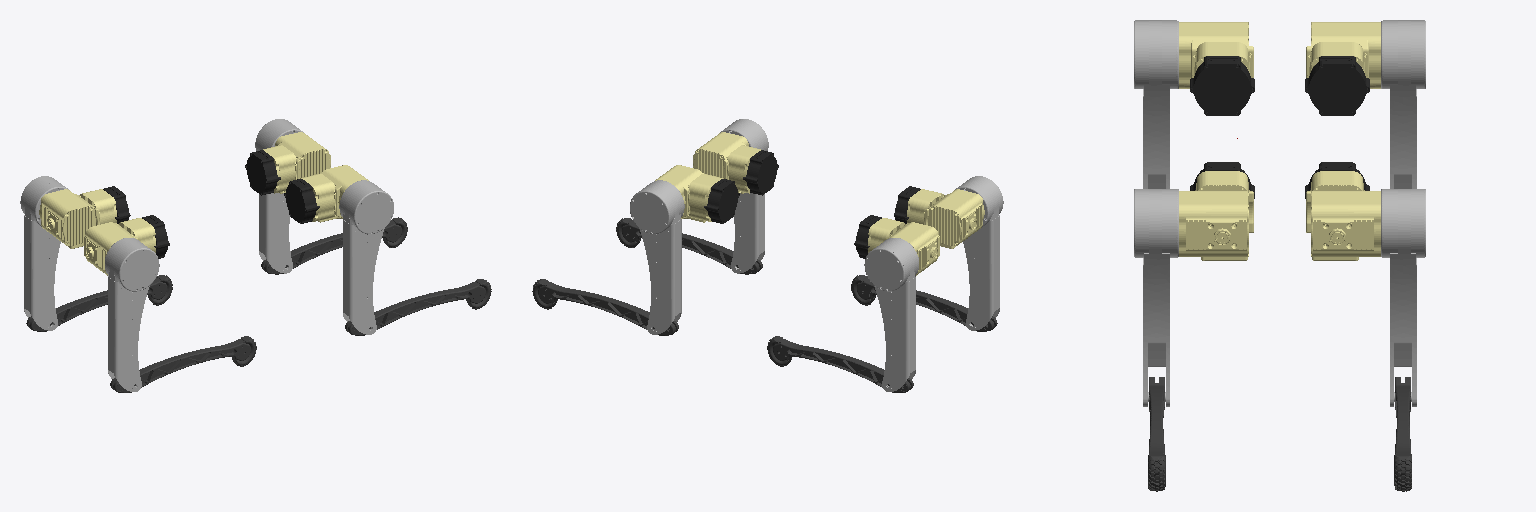
--- Render facts (derived) ---
3 views of the same robot in one strip: view 1: azimuth 30°, elevation 25°; view 2: azimuth 150°, elevation 25°; view 3: azimuth 270°, elevation 25° (orthographic).
Robot: rbq10v5 — 23 links, 22 joints (12 revolute, 10 fixed); root link base; default pose: joints at zero except 4 at the middle of their limits (RR_calf_joint = -1.61, RL_calf_joint = -1.61, FR_calf_joint = -1.61, FL_calf_joint = -1.61).
Links seen in each view (by area): view 1: RR_thigh, FR_thigh, RL_thigh, RL_hip, FL_thigh, FL_hip, RR_hip, FR_calf, RR_calf, FR_hip, RL_calf, FL_calf (+2 smaller); view 2: FL_thigh, RL_thigh, RR_thigh, RR_hip, FR_thigh, FR_hip, RL_hip, FL_calf, RL_calf, FL_hip, RR_calf, FR_calf (+2 smaller); view 3: FR_thigh, FL_thigh, FR_hip, FL_hip, RR_thigh, RL_thigh, RR_hip, RL_hip, RR, RL, FR_calf, FL_calf (+2 smaller).
Boxes of the visible links, x1=… form: RR_thigh: x1=105, y1=238, x2=159, y2=391; FR_thigh: x1=339, y1=180, x2=393, y2=334; RL_thigh: x1=20, y1=176, x2=68, y2=330; RL_hip: x1=39, y1=189, x2=116, y2=248; FL_thigh: x1=255, y1=119, x2=303, y2=273; FL_hip: x1=263, y1=132, x2=330, y2=193; RR_hip: x1=84, y1=218, x2=155, y2=275; FR_calf: x1=345, y1=281, x2=485, y2=335; RR_calf: x1=110, y1=339, x2=250, y2=392; FR_hip: x1=300, y1=165, x2=368, y2=222; RL_calf: x1=26, y1=277, x2=166, y2=331; FL_calf: x1=261, y1=220, x2=401, y2=274; FL_thigh: x1=630, y1=180, x2=684, y2=334; RL_thigh: x1=864, y1=238, x2=918, y2=391; RR_thigh: x1=955, y1=176, x2=1003, y2=330; RR_hip: x1=907, y1=189, x2=984, y2=248; FR_thigh: x1=720, y1=119, x2=768, y2=273; FR_hip: x1=693, y1=132, x2=760, y2=193; RL_hip: x1=868, y1=218, x2=939, y2=275; FL_calf: x1=538, y1=281, x2=678, y2=335; RL_calf: x1=773, y1=339, x2=913, y2=392; FL_hip: x1=655, y1=165, x2=723, y2=222; RR_calf: x1=857, y1=277, x2=997, y2=331; FR_calf: x1=622, y1=220, x2=762, y2=274; FR_thigh: x1=1134, y1=189, x2=1178, y2=406; FL_thigh: x1=1381, y1=189, x2=1425, y2=406; FR_hip: x1=1179, y1=171, x2=1253, y2=260; FL_hip: x1=1306, y1=171, x2=1380, y2=260; RR_thigh: x1=1134, y1=20, x2=1178, y2=188; RL_thigh: x1=1381, y1=20, x2=1425, y2=188; RR_hip: x1=1179, y1=22, x2=1253, y2=88; RL_hip: x1=1306, y1=22, x2=1380, y2=88; RR: x1=1190, y1=56, x2=1254, y2=115; RL: x1=1305, y1=56, x2=1369, y2=115; FR_calf: x1=1149, y1=377, x2=1164, y2=453; FL_calf: x1=1395, y1=377, x2=1410, y2=453.
Bounding box of the posed robot: 1.01 × 0.4587 × 0.3785 m (x, y, z).
Meshes: 8 distinct files referenced, 20 mesh visuals loaded (7 binary STL); not drawn: 1 (reference not matched to a file when rendering).

URDF robot description (rbq10v5):
<?xml version="1.0" encoding="utf-8"?>

<robot name="rbq10v5">
    <material name="black">
        <color rgba="0.0 0.0 0.0 1.0" />
    </material>
    <material name="blue">
        <color rgba="0.0 0.0 0.8 1.0" />
    </material>
    <material name="green">
        <color rgba="0.0 0.8 0.0 1.0" />
    </material>
    <material name="grey">
        <color rgba="0.2 0.2 0.2 1.0" />
    </material>
    <material name="silver">
        <color rgba="0.913725490196 0.913725490196 0.847058823529 1.0" />
    </material>
    <material name="orange">
        <color rgba="1.0 0.423529411765 0.0392156862745 1.0" />
    </material>
    <material name="brown">
        <color rgba="0.870588235294 0.811764705882 0.764705882353 1.0" />
    </material>
    <material name="red">
        <color rgba="0.8 0.0 0.0 1.0" />
    </material>
    <material name="white">
        <color rgba="1.0 1.0 1.0 1.0" />
    </material>


    <link name="base">
        <visual>
            <origin rpy="0 0 0" xyz="0 0 0" />
            <geometry>
                <box size="0.001 0.001 0.001" />
            </geometry>
        </visual>
    </link>

    <joint name="floating_base" type="fixed">
        <origin rpy="0 0 0" xyz="0 0 0" />
        <parent link="base" />
        <child link="trunk" />
    </joint>

    <link name="trunk">

        <visual>
            <origin xyz="0 0 0" rpy="0 0 0" />
            <geometry>
                <mesh filename="package://rbq_description/meshes/stl/fuselage.stl"
                    scale="0.001 0.001 0.001" />
            </geometry>
            <material name="tan">
                <color rgba="0.823 0.706 0.549 1" />
            </material>
        </visual>

        <collision>
            <origin rpy="0 0 0" xyz="0 0 0" />
            <geometry>
                <box size="0.8002 0.0935 0.114" />
            </geometry>
        </collision>

        <inertial>
            <origin xyz="0.015 0.0 0.0" rpy="0 0 0" />
            <mass value="15.4" />
            <inertia
                ixx="0.0649"
                ixy="-0.000875" iyy="0.170145"
                ixz="0.000538" iyz="-0.000063" izz="0.221698" />
        </inertial>

    </link>

    <joint name="imu_joint" type="fixed">
        <parent link="trunk" />
        <child link="imu_link" />
        <origin rpy="0 0 0" xyz="-0.01592 -0.06659 -0.00617" />
    </joint>

    <link name="imu_link">
        <inertial>
            <mass value="0.001" />
            <origin rpy="0 0 0" xyz="0 0 0" />
            <inertia ixx="0.0001" ixy="0" ixz="0" iyy="0.0001" iyz="0" izz="0.0001" />
        </inertial>

        <visual>
            <origin rpy="0 0 0" xyz="0 0 0" />
            <geometry>
                <box size="0.001 0.001 0.001" />
            </geometry>
            <material name="red" />
        </visual>

    </link>

    <link name="RR">

        <visual>
            <origin xyz="0 0 0" rpy="0 0 3.1416" />
            <geometry>
                <mesh filename="package://rbq_description/meshes/stl/leg3.stl"
                    scale="0.001 0.001 0.001" />
            </geometry>
            <material name="">
                <color
                    rgba="0.2 0.2 0.2 1" />
            </material>
        </visual>

    </link>

    <link name="RR_hip">

        <inertial>
            <origin xyz="-0.02 0.0 0.0" rpy="0 0 0" />
            <mass value="3.2" />
            <inertia
                ixx="0.0050"
                ixy="0.0" iyy="0.001688"
                ixz="0.0" iyz="0.0" izz="0.003536" />
        </inertial>

        <visual>
            <origin xyz="0 0 0" rpy="0 0 3.1416" />
            <geometry>
                <mesh filename="package://rbq_description/meshes/stl/hip3.stl"
                    scale="0.001 0.001 0.001" />
            </geometry>
            <material name="palegoldenrog">
                <color rgba="0.9334 0.91 0.667 1.0" />
            </material>
        </visual>

    </link>

    <link name="RR_thigh">

        <inertial>
            <origin xyz="0.0 0.0 -0.04" rpy="0 0 0" />
            <mass value="2.0" />
            <inertia
                ixx="0.005338"
                ixy="0.000036" iyy="0.005691"
                ixz="0.000376" iyz="0.000322" izz="0.000814" />
        </inertial>

        <visual>
            <origin xyz="0 0 0" rpy="0 0 0" />
            <geometry>
                <mesh filename="package://rbq_description/meshes/stl/thigh_right.stl"
                    scale="0.001 0.001 0.001" />
            </geometry>
            <material name="">
                <color
                    rgba="0.75294 0.75294 0.75294 1" />
            </material>
        </visual>

        <collision>
            <origin rpy="1.57 0 0" xyz="0 0 0" />
            <geometry>
                <cylinder radius="0.05" length="0.03" />
            </geometry>
        </collision>

        <collision>
            <origin rpy="0 0 0" xyz="0 0 -0.15" />
            <geometry>
                <box size="0.05 0.04 0.2" />
            </geometry>
        </collision>

    </link>

    <link name="RR_calf">

        <visual>
            <origin xyz="0 0 0" rpy="0 0 0" />
            <geometry>
                <mesh filename="package://rbq_description/meshes/stl/calf.stl"
                    scale="0.001 0.001 0.001" />
            </geometry>
            <material name="">
                <color rgba="0.3 0.3 0.3 1" />
            </material>
        </visual>

        <collision>
            <origin rpy="0 0 0" xyz="0.15 0 0" />
            <geometry>
                <box size="0.2 0.02 0.03" />
            </geometry>
        </collision>

        <inertial>
            <origin rpy="0 0 0" xyz="0.006286 0.001307 -0.122269" />
            <mass value="0.158015" />
            <inertia ixx="0.003607648222" ixy="1.494971e-06" ixz="-0.000132778525"
                iyy="0.003626771492" iyz="-2.8638535e-05" izz="3.5148003e-05" />
        </inertial>

    </link>

    <link name="RR_foot">
        <inertial>
            <mass value="0.06" />
            <inertia ixx="9.6e-06" ixy="0.0" ixz="0.0" iyy="9.6e-06" iyz="0.0" izz="9.6e-06" />
        </inertial>

        <collision>
            <origin xyz="0 0 0" rpy="0 0 0" />
            <geometry>
                <sphere radius="0.034" />
            </geometry>
        </collision>

        <visual>
            <origin xyz="0 0 0" rpy="0 0 0" />
            <geometry>
                <mesh filename="package://rbq_description/meshes/stl/foot.stl" 
                    scale="0.001 0.001 0.001" />
            </geometry>
            <material name="">
                <color rgba="0.3 0.3 0.3 1" />
            </material>
        </visual>
    </link>

    <joint name="RR_joint" type="fixed">
        <origin xyz="-0.19725 -0.09 0" rpy="0 0 0" />
        <parent link="trunk" />
        <child link="RR" />
        <axis xyz="0 0 0" />
    </joint>

    <joint name="RR_hip_joint" type="revolute">
        <origin
            xyz="-0.11493 0 0"
            rpy="0 0 0" />
        <parent
            link="RR" />
        <child
            link="RR_hip" />
        <axis
            xyz="1 0 0" />
        <limit
            effort="80.0" velocity="20."
            lower="-0.524"
            upper="0.524" />
        <dynamics
            damping="0.0"
            friction="0.0" />
    </joint>

    <joint name="RR_thigh_joint" type="revolute">
        <origin
            xyz="0 -0.10285 0"
            rpy="0 0 0" />
        <parent
            link="RR_hip" />
        <child
            link="RR_thigh" />
        <axis
            xyz="0 1 0" />
        <limit
            effort="80.0" velocity="20."
            lower="-1.0471975512"
            upper="4.18879020479" />
    </joint>

    <joint name="RR_calf_joint" type="revolute">
        <origin
            xyz="0 0 -0.3"
            rpy="0 1.57 0" />
        <parent
            link="RR_thigh" />
        <child
            link="RR_calf" />
        <axis
            xyz="0 1 0" />
        <limit
            effort="80.0" velocity="20."
            lower="-2.76"
            upper="-0.46" />
        <dynamics
            damping="0.0"
            friction="0.0" />
    </joint>

    <joint name="RR_foot_joint" type="fixed">
        <origin
            xyz="0.294 0 0"
            rpy="0 0 0" />
        <parent
            link="RR_calf" />
        <child
            link="RR_foot" />
        <axis
            xyz="0 0 0" />
    </joint>


    <link name="RL">

        <visual>
            <origin xyz="0 0 0" rpy="3.1416 0 3.1416" />
            <geometry>
                <mesh filename="package://rbq_description/meshes/stl/leg3.stl"
                    scale="0.001 0.001 0.001" />
            </geometry>
            <material name="">
                <color
                    rgba="0.2 0.2 0.2 1" />
            </material>
        </visual>

    </link>

    <link name="RL_hip">

        <inertial>
            <origin xyz="-0.02 0.0 0.0" rpy="0 0 0" />
            <mass value="3.2" />
            <inertia
                ixx="0.0050"
                ixy="0.0" iyy="0.001688"
                ixz="0.0" iyz="0.0" izz="0.003536" />
        </inertial>

        <visual>
            <origin xyz="0 0 0" rpy="0 0 0" />
            <geometry>
                <mesh filename="package://rbq_description/meshes/stl/hip1.stl"
                    scale="0.001 0.001 0.001" />
            </geometry>
            <material name="palegoldenrog">
                <color rgba="0.9334 0.91 0.667 1.0" />
            </material>
        </visual>

    </link>

    <link name="RL_thigh">

        <inertial>
            <origin xyz="0.0 0.0 -0.04" rpy="0 0 0" />
            <mass value="2.0" />
            <inertia
                ixx="0.005338"
                ixy="0.000036" iyy="0.005691"
                ixz="0.000376" iyz="0.000322" izz="0.000814" />
        </inertial>

        <visual>
            <origin xyz="0 0 0" rpy="0 0 0" />
            <geometry>
                <mesh filename="package://rbq_description/meshes/stl/thigh_left.stl"
                    scale="0.001 0.001 0.001" />
            </geometry>
            <material name="">
                <color
                    rgba="0.75294 0.75294 0.75294 1" />
            </material>
        </visual>

        <collision>
            <origin rpy="1.57 0 0" xyz="0 0 0" />
            <geometry>
                <cylinder radius="0.05" length="0.03" />
            </geometry>
        </collision>

        <collision>
            <origin rpy="0 0 0" xyz="0 0 -0.15" />
            <geometry>
                <box size="0.05 0.04 0.2" />
            </geometry>
        </collision>

    </link>

    <link name="RL_calf">

        <visual>
            <origin xyz="0 0 0" rpy="0 0 0" />
            <geometry>
                <mesh filename="package://rbq_description/meshes/stl/calf.stl"
                    scale="0.001 0.001 0.001" />
            </geometry>
            <material name="">
                <color rgba="0.3 0.3 0.3 1" />
            </material>
        </visual>

        <collision>
            <origin rpy="0 0 0" xyz="0.15 0 0" />
            <geometry>
                <box size="0.2 0.02 0.03" />
            </geometry>
        </collision>

        <inertial>
            <origin rpy="0 0 0" xyz="0.006286 0.001307 -0.122269" />
            <mass value="0.158015" />
            <inertia ixx="0.003607648222" ixy="1.494971e-06" ixz="-0.000132778525"
                iyy="0.003626771492" iyz="-2.8638535e-05" izz="3.5148003e-05" />
        </inertial>

    </link>

    <link name="RL_foot">
        <inertial>
            <mass value="0.06" />
            <inertia ixx="9.6e-06" ixy="0.0" ixz="0.0" iyy="9.6e-06" iyz="0.0" izz="9.6e-06" />
        </inertial>

        <collision>
            <origin xyz="0 0 0" rpy="0 0 0" />
            <geometry>
                <sphere radius="0.034" />
            </geometry>
        </collision>

        <visual>
            <origin xyz="0 0 0" rpy="0 0 0" />
            <geometry>
                <mesh filename="package://rbq_description/meshes/stl/foot.stl" 
                    scale="0.001 0.001 0.001" />
            </geometry>
            <material name="">
                <color rgba="0.3 0.3 0.3 1" />
            </material>
        </visual>
    </link>


    <joint name="RL_joint" type="fixed">
        <origin
            xyz="-0.19725 0.09 0"
            rpy="0 0 0" />
        <parent
            link="trunk" />
        <child
            link="RL" />
        <axis
            xyz="0 0 0" />
    </joint>

    <joint name="RL_hip_joint" type="revolute">
        <origin
            xyz="-0.11493 0 0"
            rpy="0 0 0" />
        <parent
            link="RL" />
        <child
            link="RL_hip" />
        <axis
            xyz="1 0 0" />
        <limit
            effort="80.0" velocity="20."
            lower="-0.524"
            upper="0.524" />
        <dynamics
            damping="0.0"
            friction="0.0" />
    </joint>

    <joint name="RL_thigh_joint" type="revolute">
        <origin
            xyz="0 0.10285 0"
            rpy="0 0 0" />
        <parent
            link="RL_hip" />
        <child
            link="RL_thigh" />
        <axis
            xyz="0 1 0" />
        <limit
            effort="80.0" velocity="20."
            lower="-1.0471975512"
            upper="4.18879020479" />
    </joint>

    <joint name="RL_calf_joint" type="revolute">
        <origin
            xyz="0 0 -0.3"
            rpy="0 1.57 0" />
        <parent
            link="RL_thigh" />
        <child
            link="RL_calf" />
        <axis
            xyz="0 1 0" />
        <limit
            effort="80.0" velocity="20."
            lower="-2.76"
            upper="-0.46" />
        <dynamics
            damping="0.0"
            friction="0.0" />
    </joint>

    <joint name="RL_foot_joint" type="fixed">
        <origin
            xyz="0.294 0 0"
            rpy="0 0 0" />
        <parent
            link="RL_calf" />
        <child
            link="RL_foot" />
        <axis
            xyz="0 0 0" />
    </joint>


    <link name="FR">
        <inertial>
            <origin xyz="-2.7886E-05 -0.00038376 9.5274E-06" rpy="0 0 0" />
            <mass value="0.091477" />
            <inertia
                ixx="0.00012129" ixy="-4.0174E-09" ixz="1.2377E-09"
                iyy="6.3759E-05" iyz="-3.8932E-10"
                izz="6.0224E-05" />
        </inertial>
        <visual>
            <origin xyz="0 0 0" rpy="3.1416 0 0" />
            <geometry>
                <mesh filename="package://rbq_description/meshes/stl/leg3.stl"
                    scale="0.001 0.001 0.001" />
            </geometry>
            <material name="">
                <color rgba="0.2 0.2 0.2 1" />
            </material>
        </visual>
    </link>

    <link name="FR_hip">

        <inertial>
            <origin xyz="-0.02 0.0 0.0" rpy="0 0 0" />
            <mass value="3.2" />
            <inertia
                ixx="0.0050"
                ixy="0.0" iyy="0.001688"
                ixz="0.0" iyz="0.0" izz="0.003536" />
        </inertial>

        <visual>
            <origin xyz="0 0 0" rpy="0 0 3.1416" />
            <geometry>
                <mesh filename="package://rbq_description/meshes/stl/hip1.stl"
                    scale="0.001 0.001 0.001" />
            </geometry>
            <material name="palegoldenrog">
                <color rgba="0.9334 0.91 0.667 1.0" />
            </material>
        </visual>

    </link>

    <link name="FR_thigh">

        <inertial>
            <origin xyz="0.0 0.0 -0.04" rpy="0 0 0" />
            <mass value="2.0" />
            <inertia
                ixx="0.005338"
                ixy="0.000036" iyy="0.005691"
                ixz="0.000376" iyz="0.000322" izz="0.000814" />
        </inertial>

        <visual>
            <origin xyz="0 0 0" rpy="0 0 0" />
            <geometry>
                <mesh filename="package://rbq_description/meshes/stl/thigh_right.stl"
                    scale="0.001 0.001 0.001" />
            </geometry>
            <material name="">
                <color
                    rgba="0.75294 0.75294 0.75294 1" />
            </material>
        </visual>

        <collision>
            <origin rpy="1.57 0 0" xyz="0 0 0" />
            <geometry>
                <cylinder radius="0.05" length="0.03" />
            </geometry>
        </collision>

        <collision>
            <origin rpy="0 0 0" xyz="0 0 -0.15" />
            <geometry>
                <box size="0.05 0.04 0.2" />
            </geometry>
        </collision>

    </link>

    <link name="FR_calf">

        <visual>
            <origin xyz="0 0 0" rpy="0 0 0" />
            <geometry>
                <mesh filename="package://rbq_description/meshes/stl/calf.stl"
                    scale="0.001 0.001 0.001" />
            </geometry>
            <material name="">
                <color rgba="0.3 0.3 0.3 1" />
            </material>
        </visual>

        <collision>
            <origin rpy="0 0 0" xyz="0.15 0 0" />
            <geometry>
                <box size="0.2 0.02 0.03" />
            </geometry>
        </collision>

        <inertial>
            <origin rpy="0 0 0" xyz="0.006286 0.001307 -0.122269" />
            <mass value="0.158015" />
            <inertia ixx="0.003607648222" ixy="1.494971e-06" ixz="-0.000132778525"
                iyy="0.003626771492" iyz="-2.8638535e-05" izz="3.5148003e-05" />
        </inertial>

    </link>

    <link name="FR_foot">
        <inertial>
            <mass value="0.06" />
            <inertia ixx="9.6e-06" ixy="0.0" ixz="0.0" iyy="9.6e-06" iyz="0.0" izz="9.6e-06" />
        </inertial>

        <collision>
            <origin xyz="0 0 0" rpy="0 0 0" />
            <geometry>
                <sphere radius="0.034" />
            </geometry>
        </collision>

        <visual>
            <origin xyz="0 0 0" rpy="0 0 0" />
            <geometry>
                <mesh filename="package://rbq_description/meshes/stl/foot.stl" 
                    scale="0.001 0.001 0.001" />
            </geometry>
            <material name="">
                <color rgba="0.3 0.3 0.3 1" />
            </material>
        </visual>
    </link>


    <joint name="FR_joint" type="fixed">
        <origin
            xyz="0.19725 -0.09 0"
            rpy="0 0 0" />
        <parent
            link="trunk" />
        <child
            link="FR" />
        <axis
            xyz="0 0 0" />
    </joint>

    <joint name="FR_hip_joint" type="revolute">
        <origin
            xyz="0.11493 0 0"
            rpy="0 0 0" />
        <parent
            link="FR" />
        <child
            link="FR_hip" />
        <axis
            xyz="1 0 0" />
        <limit
            effort="80.0" velocity="20."
            lower="-0.524"
            upper="0.524" />
        <dynamics
            damping="0.0"
            friction="0.0" />
    </joint>

    <joint name="FR_thigh_joint" type="revolute">
        <origin
            xyz="0 -0.10285 0"
            rpy="0 0 0" />
        <parent
            link="FR_hip" />
        <child
            link="FR_thigh" />
        <axis
            xyz="0 1 0" />
        <limit
            effort="80.0" velocity="20."
            lower="-1.0471975512"
            upper="4.18879020479" />
    </joint>

    <joint name="FR_calf_joint" type="revolute">
        <origin
            xyz="0 0 -0.3"
            rpy="0 1.57 0" />
        <parent
            link="FR_thigh" />
        <child
            link="FR_calf" />
        <axis
            xyz="0 1 0" />
        <limit
            effort="80.0" velocity="20."
            lower="-2.76"
            upper="-0.46" />
        <dynamics
            damping="0.0"
            friction="0.0" />
    </joint>

    <joint name="FR_foot_joint" type="fixed">
        <origin
            xyz="0.294 0 0"
            rpy="0 0 0" />
        <parent
            link="FR_calf" />
        <child
            link="FR_foot" />
        <axis
            xyz="0 0 0" />
    </joint>


    <link name="FL">

        <visual>
            <origin xyz="0 0 0" rpy="0 0 0" />
            <geometry>
                <mesh filename="package://rbq_description/meshes/stl/leg3.stl"
                    scale="0.001 0.001 0.001" />
            </geometry>
            <material name="">
                <color
                    rgba="0.2 0.2 0.2 1" />
            </material>
        </visual>

    </link>

    <link name="FL_hip">

        <inertial>
            <origin xyz="-0.02 0.0 0.0" rpy="0 0 0" />
            <mass value="3.2" />
            <inertia
                ixx="0.0050"
                ixy="0.0" iyy="0.001688"
                ixz="0.0" iyz="0.0" izz="0.003536" />
        </inertial>

        <visual>
            <origin xyz="0 0 0" rpy="0 0 0" />
            <geometry>
                <mesh filename="package://rbq_description/meshes/stl/hip3.stl"
                    scale="0.001 0.001 0.001" />
            </geometry>
            <material name="palegoldenrog">
                <color rgba="0.9334 0.91 0.667 1.0" />
            </material>
        </visual>
    </link>

    <link name="FL_thigh">

        <inertial>
            <origin xyz="0.0 0.0 -0.04" rpy="0 0 0" />
            <mass value="2.0" />
            <inertia
                ixx="0.005338"
                ixy="0.000036" iyy="0.005691"
                ixz="0.000376" iyz="0.000322" izz="0.000814" />
        </inertial>

        <visual>
            <origin xyz="0 0 0" rpy="0 0 0" />
            <geometry>
                <mesh filename="package://rbq_description/meshes/stl/thigh_left.stl"
                    scale="0.001 0.001 0.001" />
            </geometry>
            <material name="">
                <color
                    rgba="0.75294 0.75294 0.75294 1" />
            </material>
        </visual>

        <collision>
            <origin rpy="1.57 0 0" xyz="0 0 0" />
            <geometry>
                <cylinder radius="0.05" length="0.03" />
            </geometry>
        </collision>

        <collision>
            <origin rpy="0 0 0" xyz="0 0 -0.15" />
            <geometry>
                <box size="0.05 0.04 0.2" />
            </geometry>
        </collision>

    </link>

    <link name="FL_calf">

        <visual>
            <origin xyz="0 0 0" rpy="0 0 0" />
            <geometry>
                <mesh filename="package://rbq_description/meshes/stl/calf.stl"
                    scale="0.001 0.001 0.001" />
            </geometry>
            <material name="">
                <color rgba="0.3 0.3 0.3 1" />
            </material>
        </visual>

        <collision>
            <origin rpy="0 0 0" xyz="0.15 0 0" />
            <geometry>
                <box size="0.2 0.02 0.03" />
            </geometry>
        </collision>

        <inertial>
            <origin rpy="0 0 0" xyz="0.006286 0.001307 -0.122269" />
            <mass value="0.158015" />
            <inertia ixx="0.003607648222" ixy="1.494971e-06" ixz="-0.000132778525"
                iyy="0.003626771492" iyz="-2.8638535e-05" izz="3.5148003e-05" />
        </inertial>

    </link>

    <link name="FL_foot">
        <inertial>
            <mass value="0.06" />
            <inertia ixx="9.6e-06" ixy="0.0" ixz="0.0" iyy="9.6e-06" iyz="0.0" izz="9.6e-06" />
        </inertial>

        <collision>
            <origin xyz="0 0 0" rpy="0 0 0" />
            <geometry>
                <sphere radius="0.034" />
            </geometry>
        </collision>

        <visual>
            <origin xyz="0 0 0" rpy="0 0 0" />
            <geometry>
                <mesh filename="package://rbq_description/meshes/stl/foot.stl" 
                    scale="0.001 0.001 0.001" />
            </geometry>
            <material name="">
                <color rgba="0.3 0.3 0.3 1" />
            </material>
        </visual>
    </link>


    <joint name="FL_joint" type="fixed">
        <origin
            xyz="0.19725 0.09 0"
            rpy="0 0 0" />
        <parent
            link="trunk" />
        <child
            link="FL" />
        <axis
            xyz="0 0 0" />
    </joint>

    <joint name="FL_hip_joint" type="revolute">
        <origin
            xyz="0.11493 0 0"
            rpy="0 0 0" />
        <parent
            link="FL" />
        <child
            link="FL_hip" />
        <axis
            xyz="1 0 0" />
        <limit
            effort="80.0" velocity="20."
            lower="-0.524"
            upper="0.524" />
        <dynamics
            damping="0.0"
            friction="0.0" />
    </joint>

    <joint name="FL_thigh_joint" type="revolute">
        <origin
            xyz="0 0.10285 0"
            rpy="0 0 0" />
        <parent
            link="FL_hip" />
        <child
            link="FL_thigh" />
        <axis
            xyz="0 1 0" />
        <dynamics damping="0" friction="0" />
        <limit
            effort="80.0" velocity="20."
            lower="-1.0471975512"
            upper="4.18879020479" />
    </joint>

    <joint name="FL_calf_joint" type="revolute">
        <origin
            xyz="0 0 -0.3"
            rpy="0 1.57 0" />
        <axis xyz="0 1 0" />
        <parent
            link="FL_thigh" />
        <child
            link="FL_calf" />
        <limit
            effort="80.0" velocity="20."
            lower="-2.76"
            upper="-0.46" />
        <dynamics
            damping="0.0"
            friction="0.0" />
    </joint>

    <joint name="FL_foot_joint" type="fixed">
        <origin
            xyz="0.294 0 0"
            rpy="0 0 0" />
        <parent
            link="FL_calf" />
        <child
            link="FL_foot" />
        <axis
            xyz="0 0 0" />
    </joint>

</robot>
